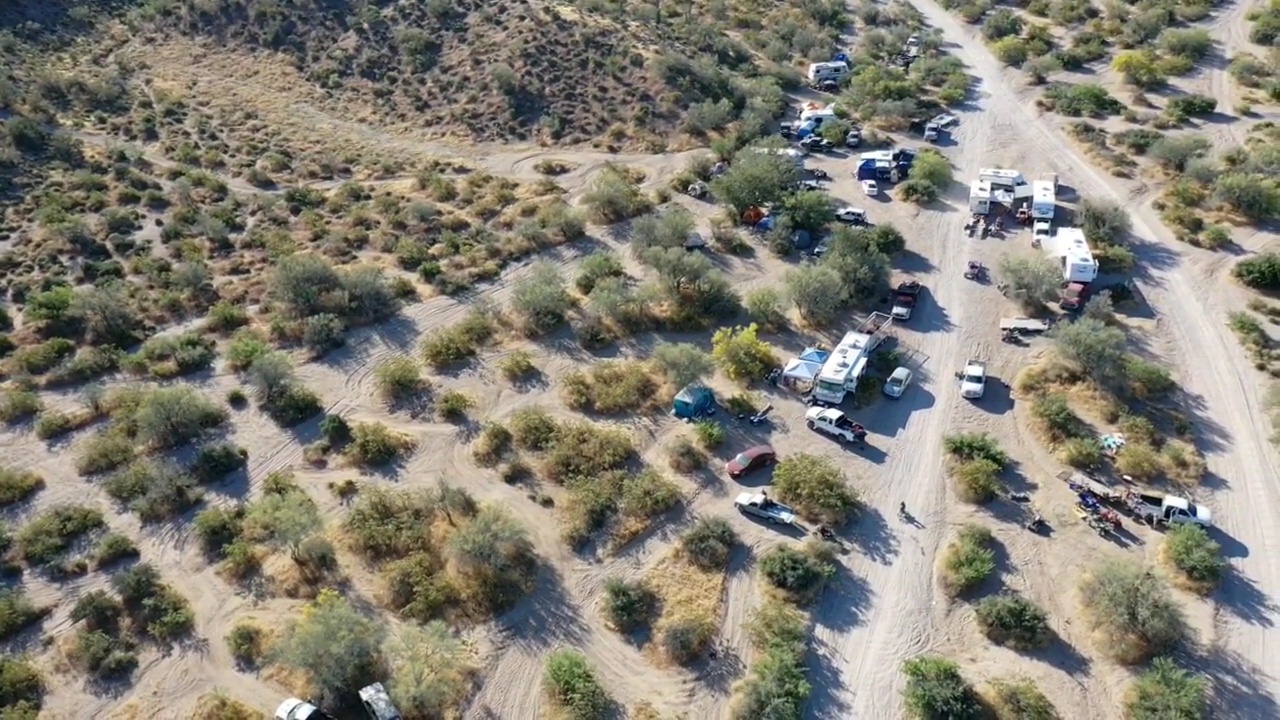araba: (725, 444, 778, 478), (958, 357, 992, 400), (881, 365, 914, 400), (888, 291, 918, 322), (836, 206, 868, 220), (861, 174, 879, 195)
kamyonet: (1132, 491, 1214, 529), (803, 404, 867, 448), (735, 487, 793, 525)
otobus: (811, 328, 875, 403), (809, 57, 853, 85)
